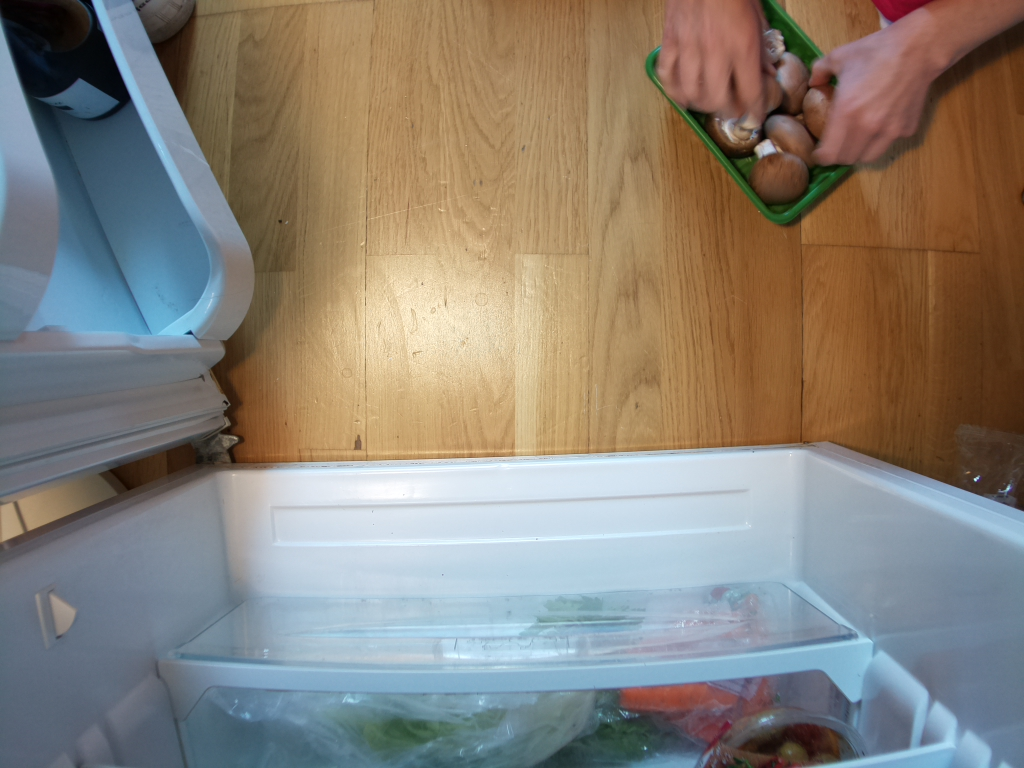mushrooms: (639, 1, 864, 230)
